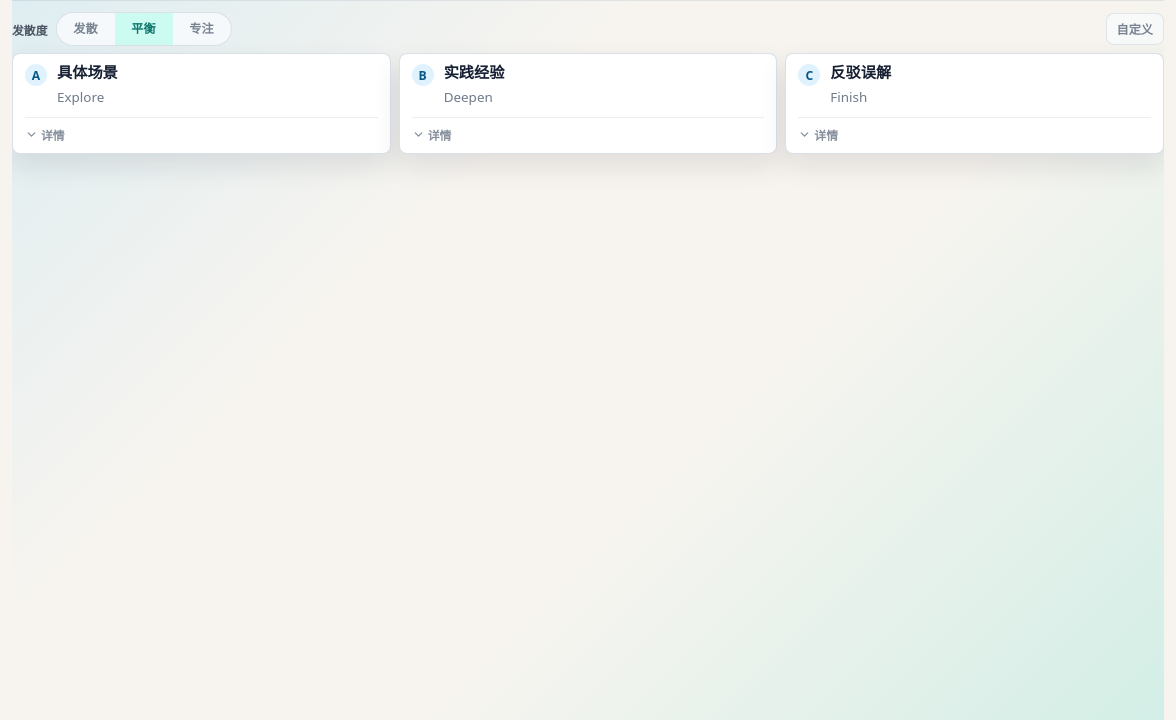
Test: TreeCanvas › keeps supplemental request panels separate from mode controls
Click the button with aria-label "A 展开详情" at (45, 134), box [25, 126, 65, 143]
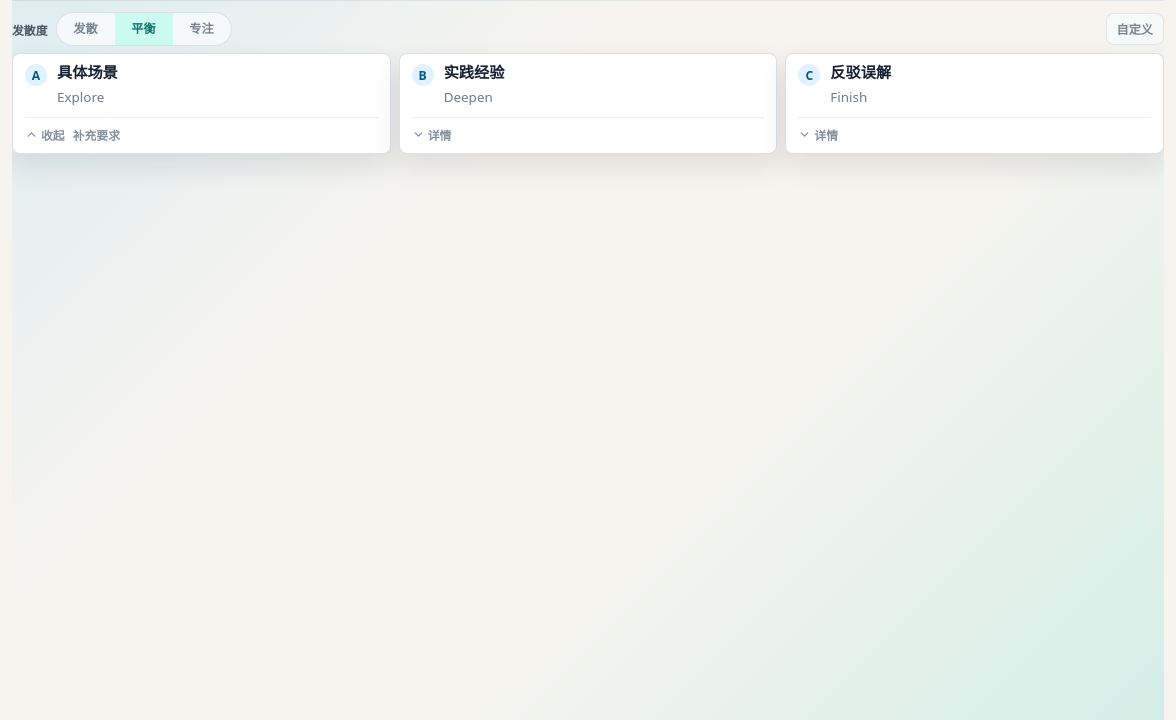
Click the button with aria-label "A 补充要求" at (96, 134), box [73, 126, 120, 143]
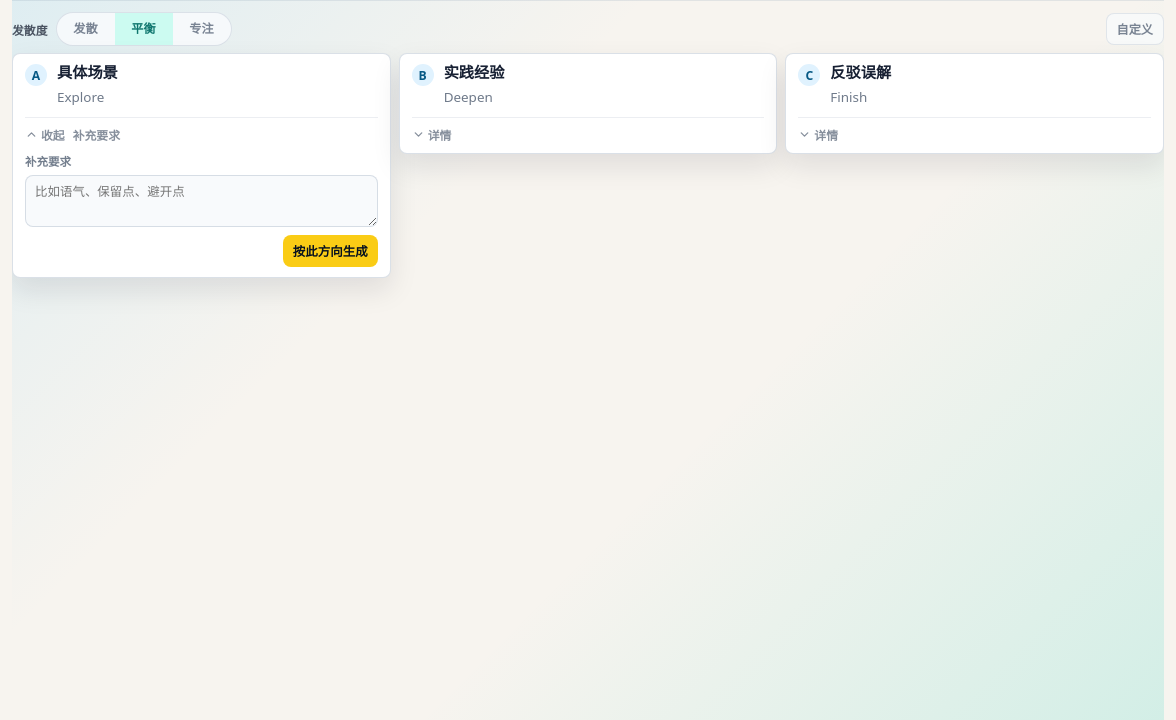
Expected: the number of elements named "发散度" is 1, [56, 12, 232, 46]
Result: the text box named "补充要求 A" is shown at [25, 175, 378, 227]
Result: the button with aria-label "A 按此方向生成" is shown at [283, 235, 378, 267]
